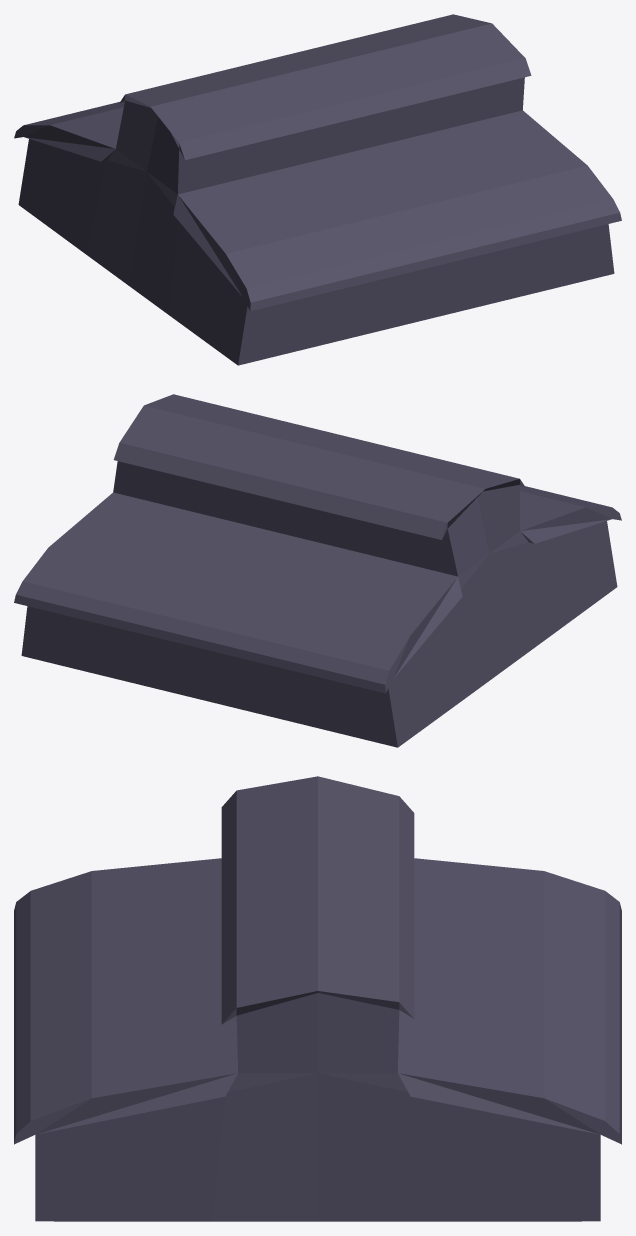
The model's file is FarmHouse.fbx.
3 renders of one model, top to bottom at view 1: azimuth 30°, elevation 25°; view 2: azimuth 150°, elevation 25°; view 3: azimuth 270°, elevation 25°, orthographic. The views are drawn at different scales.
Visible parts, largest first — view 1: pCube40; view 2: pCube40; view 3: pCube40.
Part boxes in pixels (left/top/right/bottom): pCube40: left=14, top=14, right=621, bottom=365; pCube40: left=14, top=394, right=621, bottom=747; pCube40: left=14, top=776, right=621, bottom=1221.
Size of the model in its own units: 8095 by 3560 by 8801.
